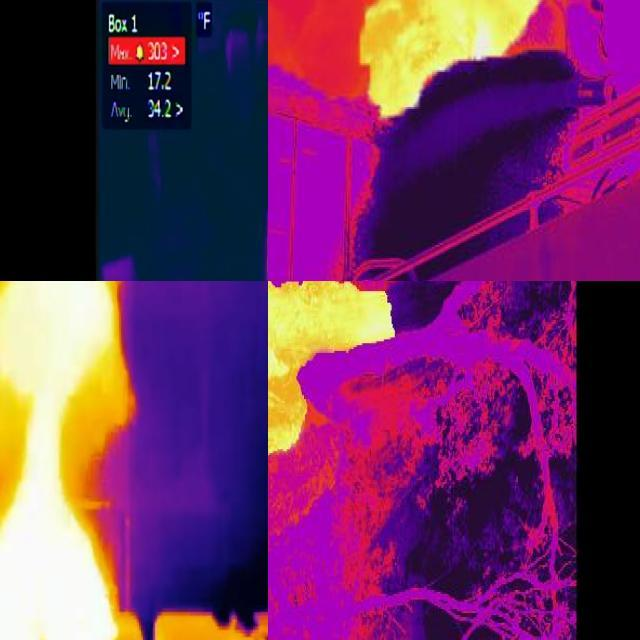fire: (1, 281, 99, 640), (269, 282, 398, 454), (354, 1, 543, 117)
